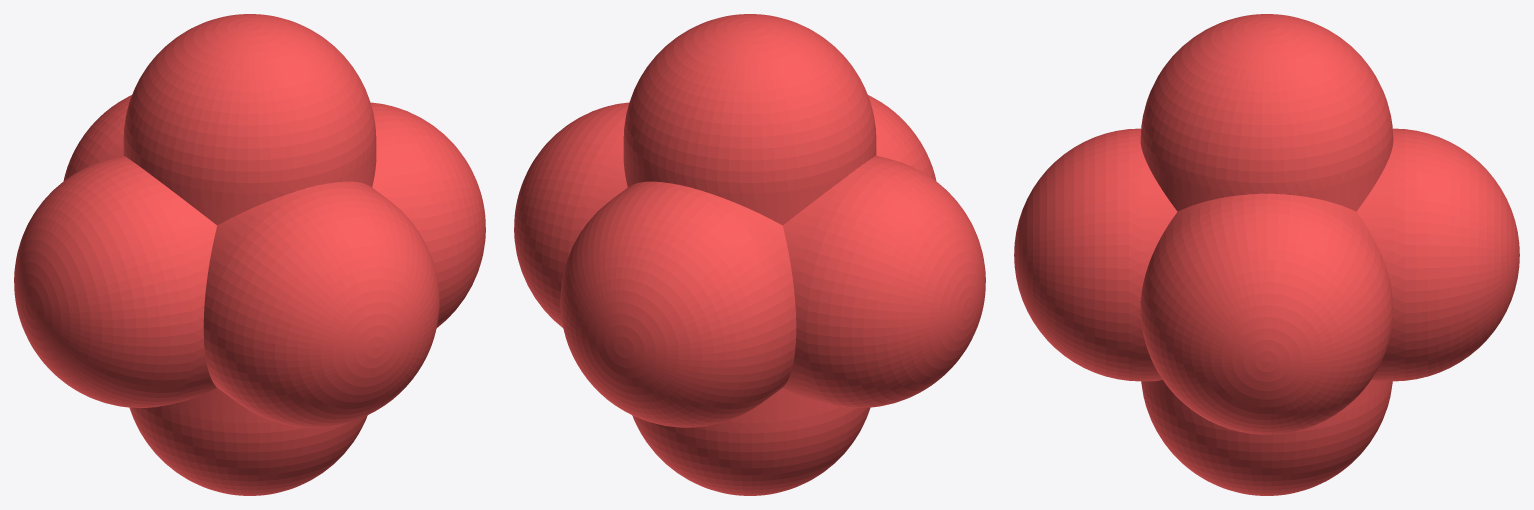
Rendered from 6way.glb.
The picture shows the model from 3 angles, left to right: view 1: azimuth 30°, elevation 25°; view 2: azimuth 150°, elevation 25°; view 3: azimuth 270°, elevation 25°; orthographic projection.
Bounding box in the file's own units: 40 × 40 × 40.
